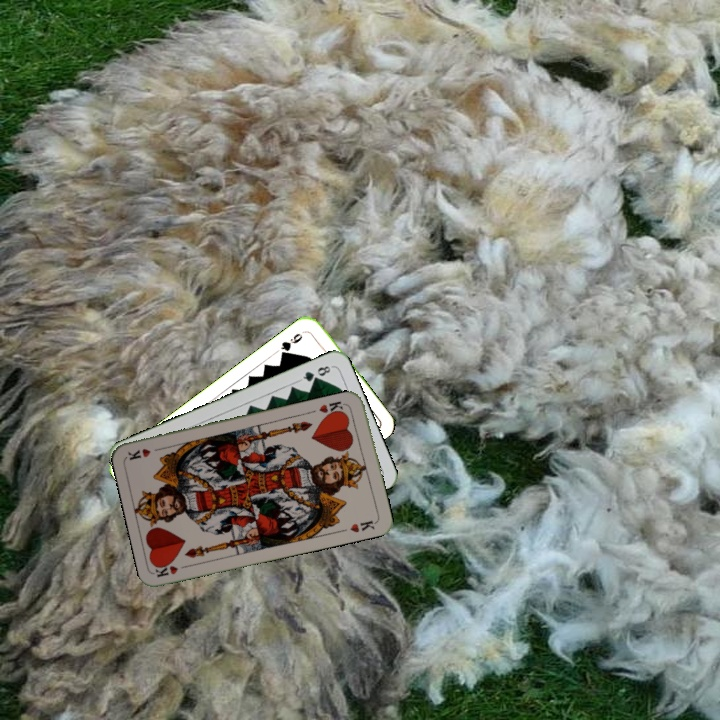G8: (296, 362, 335, 384)
G9: (277, 329, 305, 359)
HK: (152, 559, 193, 580), (315, 397, 350, 420)
